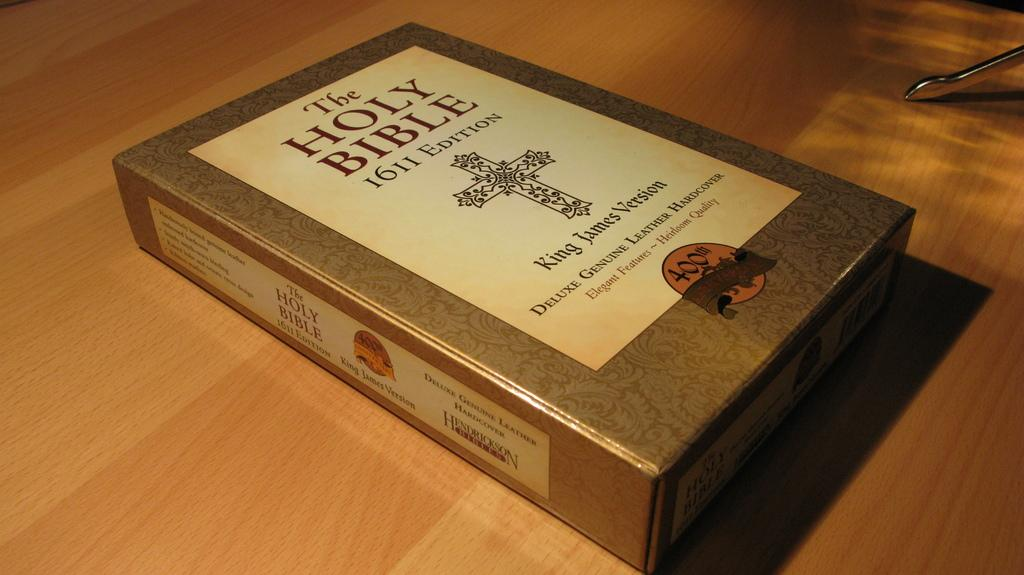book: (110, 19, 915, 572)
